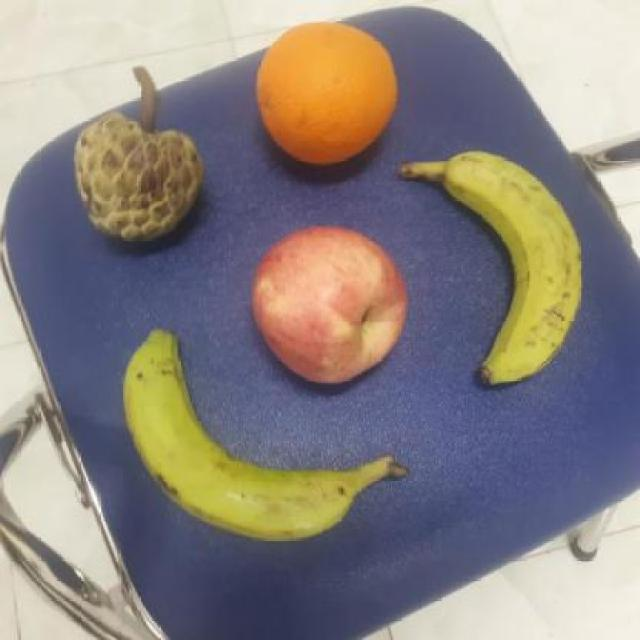apple: (240, 218, 415, 397)
banana: (110, 322, 408, 536), (398, 142, 590, 390)
oren: (254, 20, 403, 168)
sugar apple: (70, 107, 213, 251)
